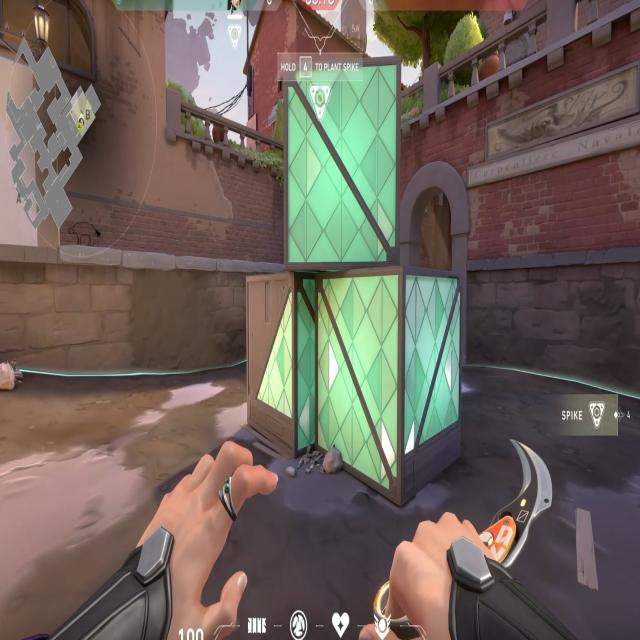B_Site_Box: (229, 41, 472, 502)
